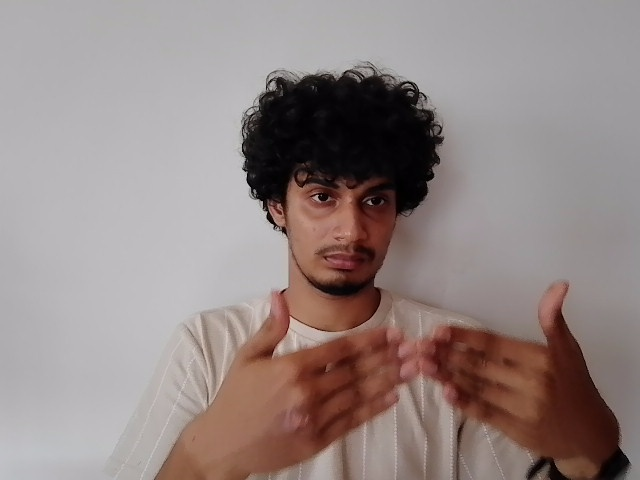family: (193, 280, 611, 469)
